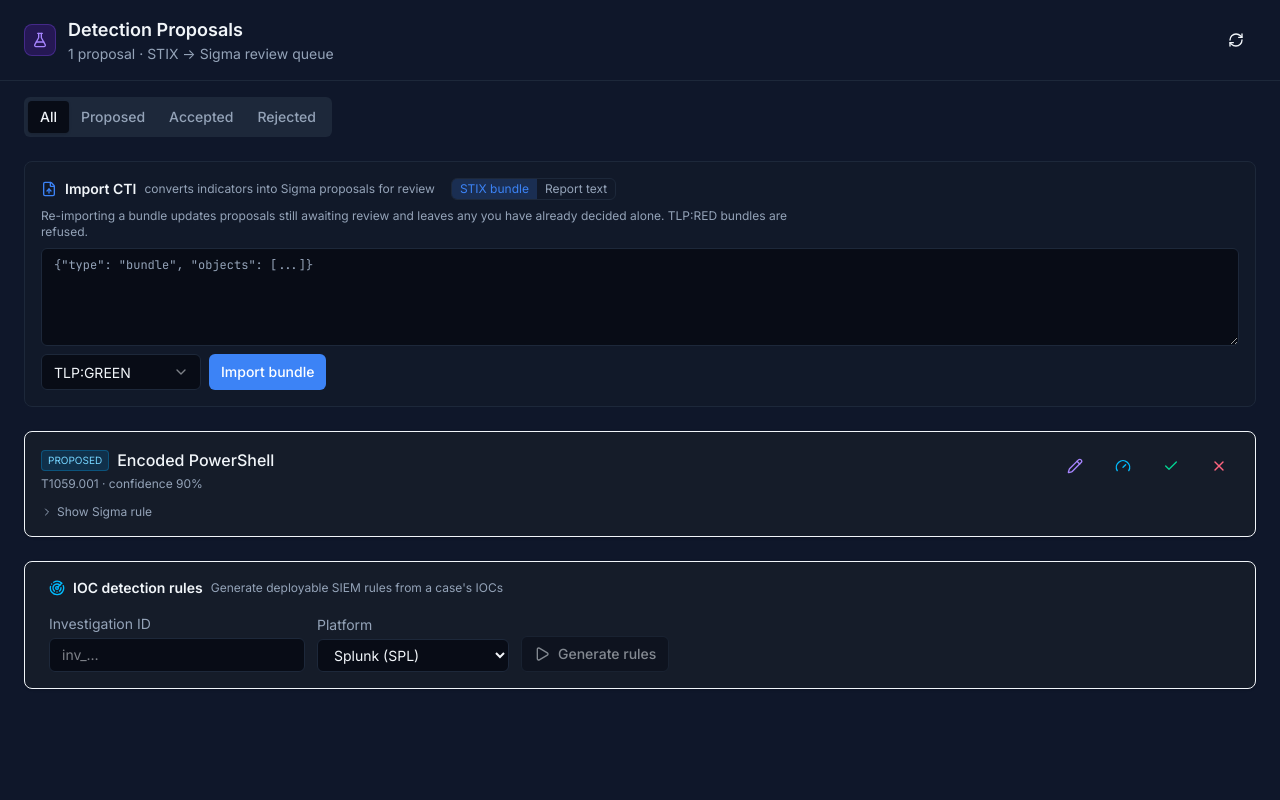
it: DetectionProposalsPage › surfaces an error when validation fails
Step 1. Click the button with test id "proposal-validate-prop_ONE" → (1123, 466), box [1103,448,1143,484]
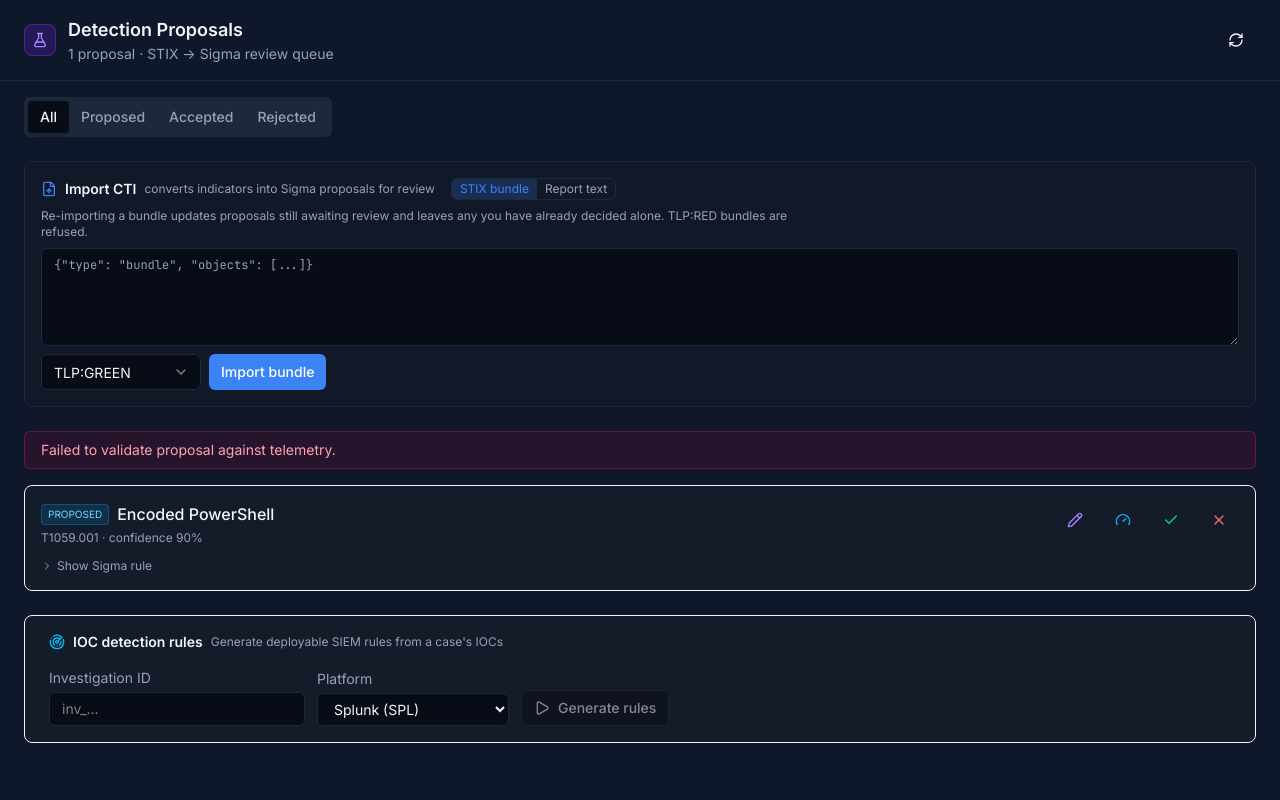
Now the text "Failed to validate proposal against telemetry." is shown, box [24,431,1256,469]
